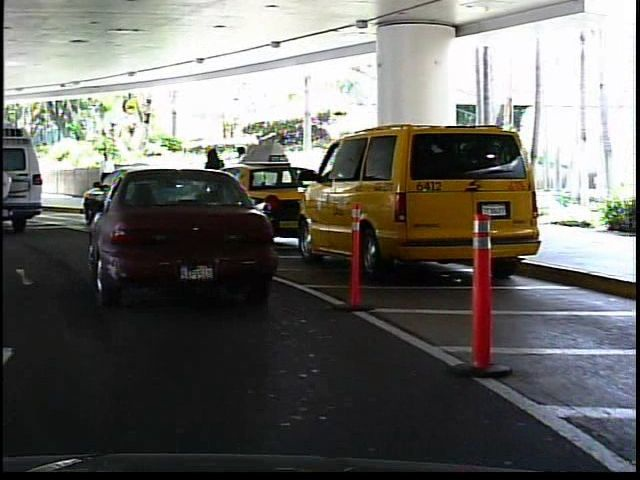person: (199, 142, 232, 208), (234, 139, 259, 207), (95, 146, 119, 203), (24, 155, 45, 198)
